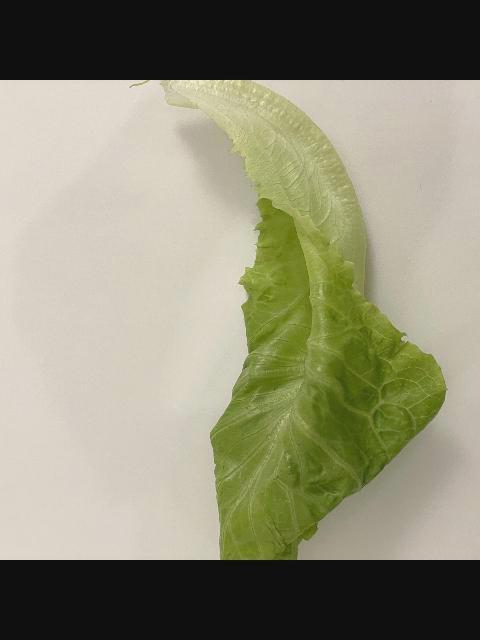lettuce: (158, 80, 448, 560)
